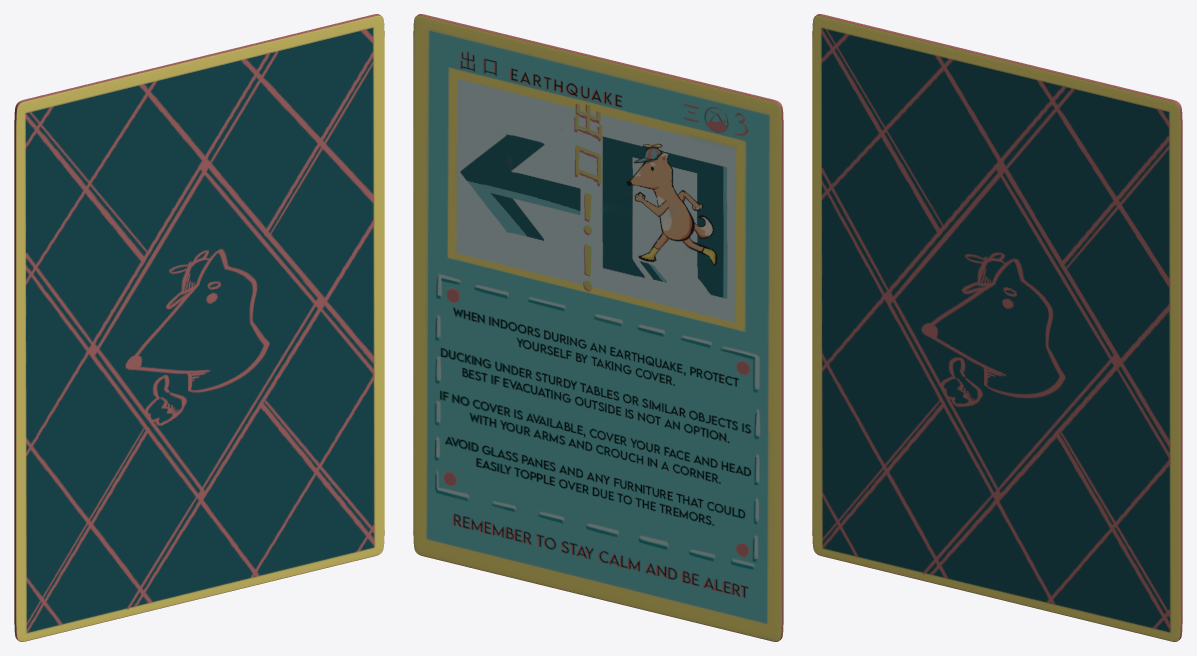
File: inside_card.fbx
The picture shows the model from 3 angles, left to right: view 1: azimuth 30°, elevation 25°; view 2: azimuth 150°, elevation 25°; view 3: azimuth 330°, elevation 25°; orthographic projection.
Visible parts, largest first — view 1: pCube1; view 2: pCube1; view 3: pCube1.
Part boxes in pixels (x1,y1,x2,y2): pCube1: (14, 14, 384, 641); pCube1: (413, 14, 783, 641); pCube1: (812, 14, 1182, 641).
Bounding box in the file's own units: 2.5 × 3.5 × 0.025.
Materials: 3 (3 with a texture image).
